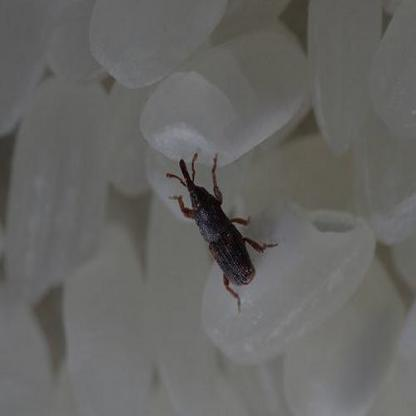rice-bug: (169, 150, 271, 301)
